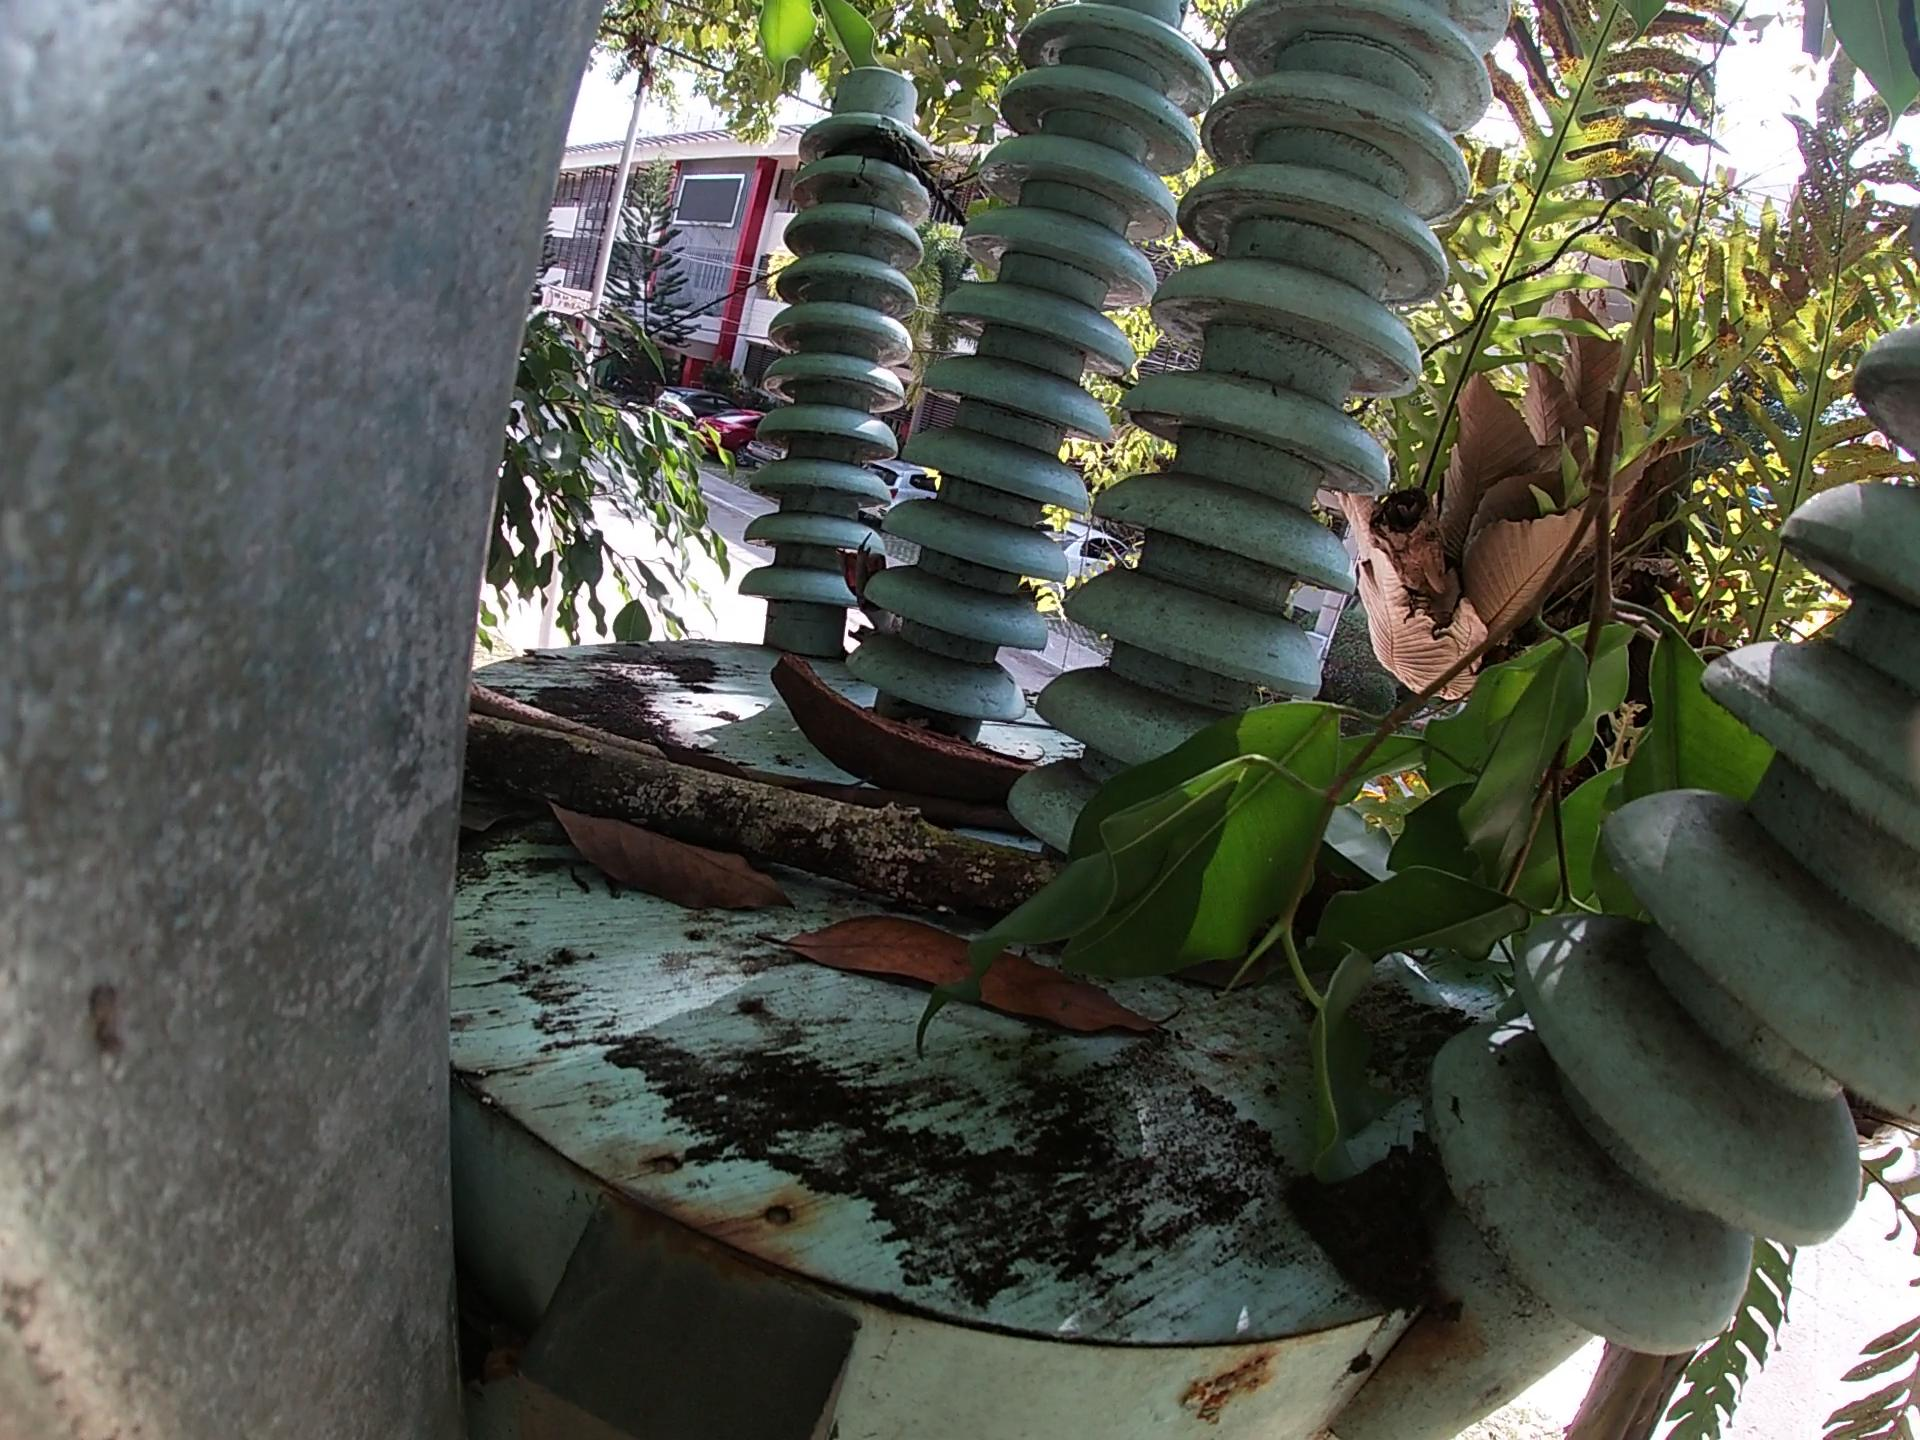branch with leaves: (1072, 245, 1793, 1168)
leaf: (763, 920, 1176, 1050), (522, 802, 785, 927)
mahogany fruit: (774, 647, 1042, 811)
tree branch: (438, 728, 1093, 917), (455, 682, 698, 756)
